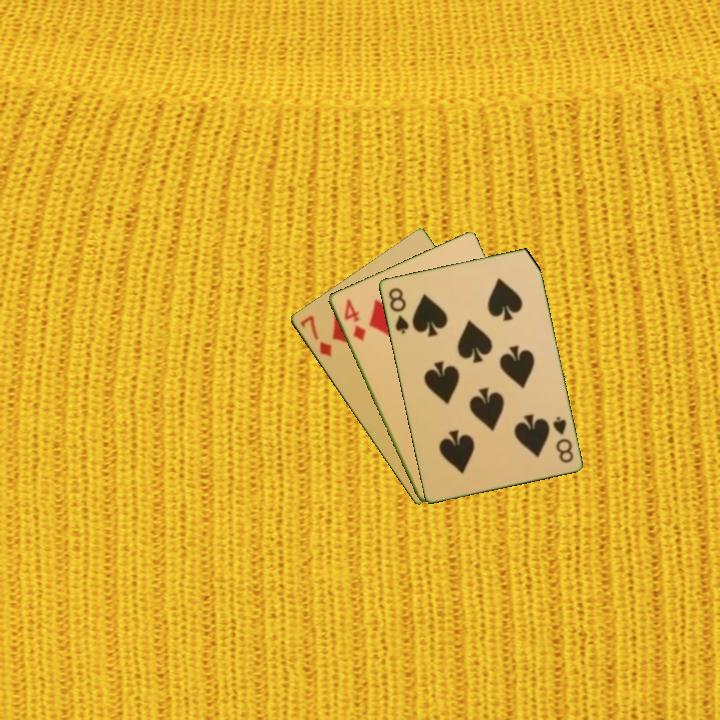4d: (340, 295, 369, 344)
7d: (296, 312, 334, 359)
8s: (549, 413, 576, 466), (385, 284, 411, 337)
